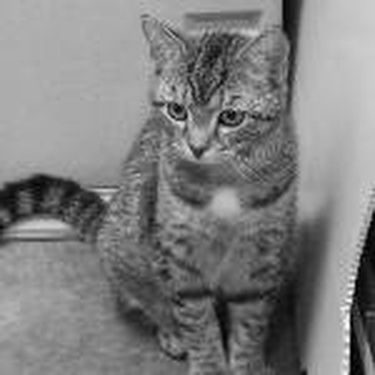cat: (1, 2, 310, 360)
